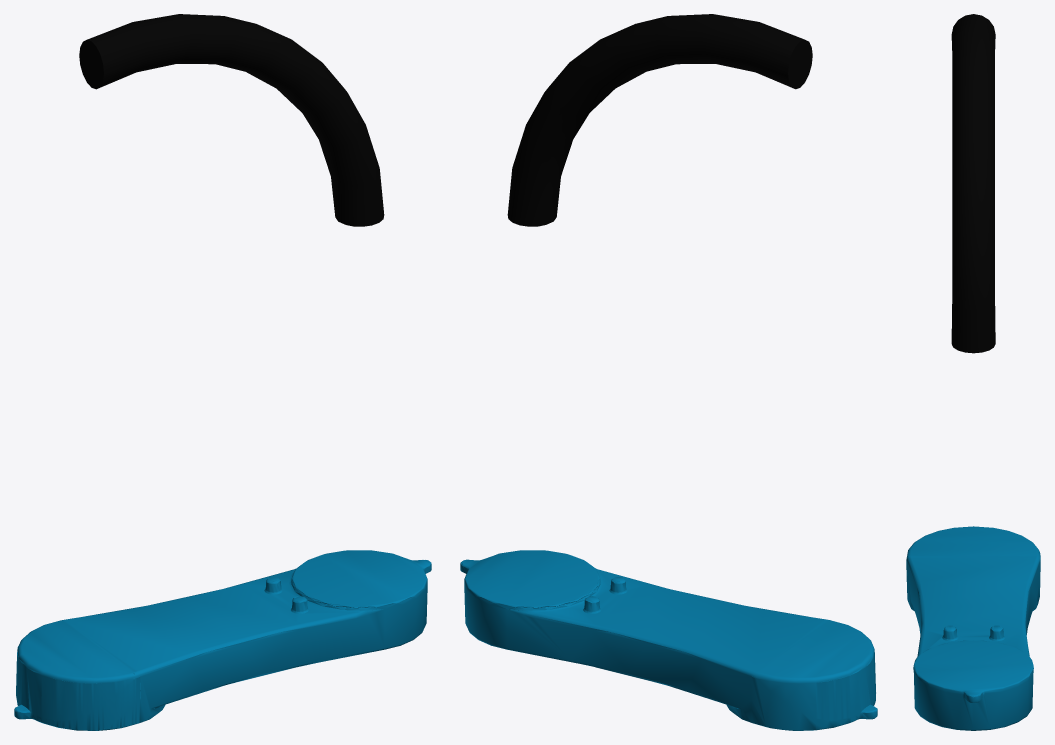
3 views of the same model, side by side, from view 1: azimuth 30°, elevation 25°; view 2: azimuth 150°, elevation 25°; view 3: azimuth 270°, elevation 25° (orthographic). The views are drawn at different scales.
Visible parts, largest first — view 1: sg400_lk1; view 2: sg400_lk1; view 3: sg400_lk1.
Part boxes in pixels (box(x1,y1,x2,y2)): sg400_lk1: box(14, 14, 431, 730); sg400_lk1: box(460, 14, 877, 730); sg400_lk1: box(906, 14, 1040, 730).
Size of the model in its own units: 0.31 by 0.0978 by 0.4761.
